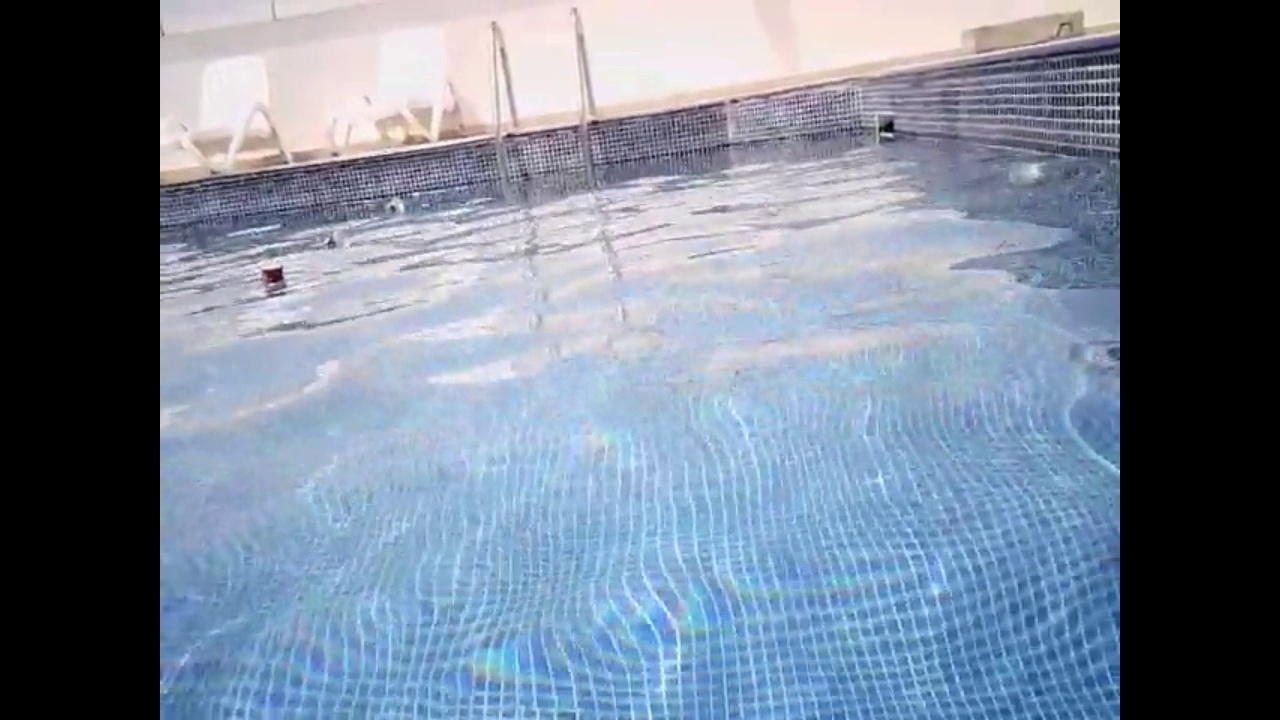debris: (254, 255, 290, 300), (321, 225, 354, 257), (380, 195, 406, 222)
